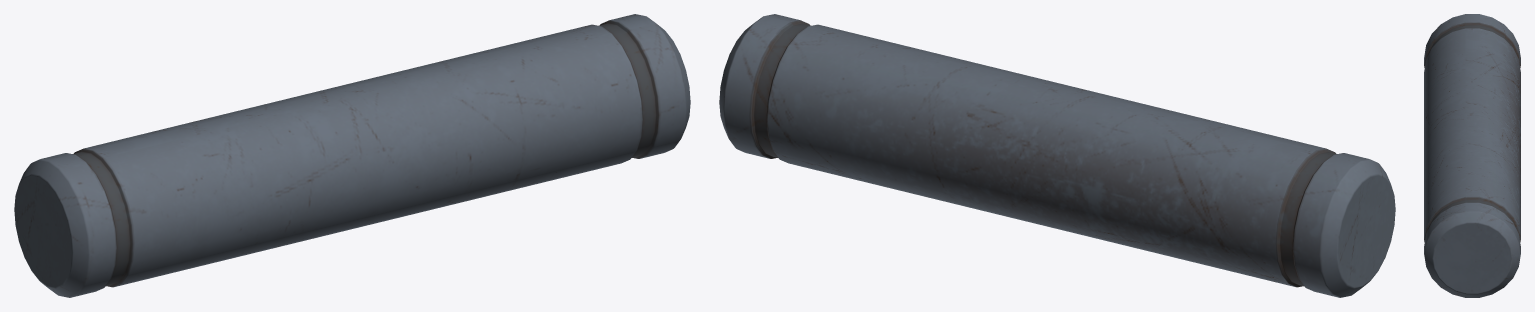
File: SM_VentilatorPipeBig02.fbx
The picture shows the model from 3 angles, left to right: view 1: azimuth 30°, elevation 25°; view 2: azimuth 150°, elevation 25°; view 3: azimuth 270°, elevation 25°; orthographic projection. The views are drawn at different scales.
Visible parts, largest first — view 1: SM_VentilatorPipeBig02_LOD0; view 2: SM_VentilatorPipeBig02_LOD0; view 3: SM_VentilatorPipeBig02_LOD0.
Boxes of the visible parts, x1,y1,x2,y2 form: SM_VentilatorPipeBig02_LOD0: [14, 14, 690, 297]; SM_VentilatorPipeBig02_LOD0: [719, 14, 1395, 297]; SM_VentilatorPipeBig02_LOD0: [1424, 14, 1520, 297].
Bounding box in the file's own units: 253 × 50.48 × 49.96.
1 material, 1 textured.
